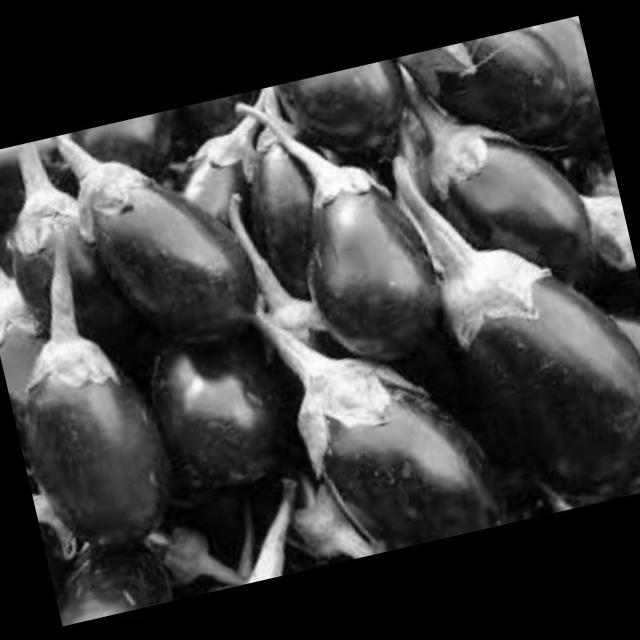eggplant: (233, 262, 538, 572), (401, 177, 640, 505), (39, 99, 284, 383), (0, 274, 220, 573), (395, 65, 614, 319), (264, 82, 456, 354), (127, 296, 336, 532), (206, 95, 368, 328), (0, 134, 143, 367), (414, 13, 602, 156), (262, 52, 430, 173)
